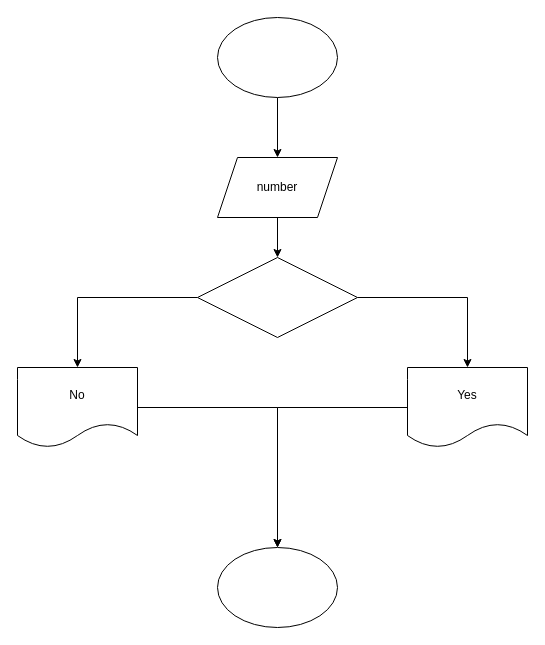
This 545x645 diagram has some shape labels left out. Here are the shapes that lost their labels. From the top down, the box of each, then its label:
(216, 16, 338, 98): start
(196, 256, 358, 338): (namber mod 2 ) = 0
